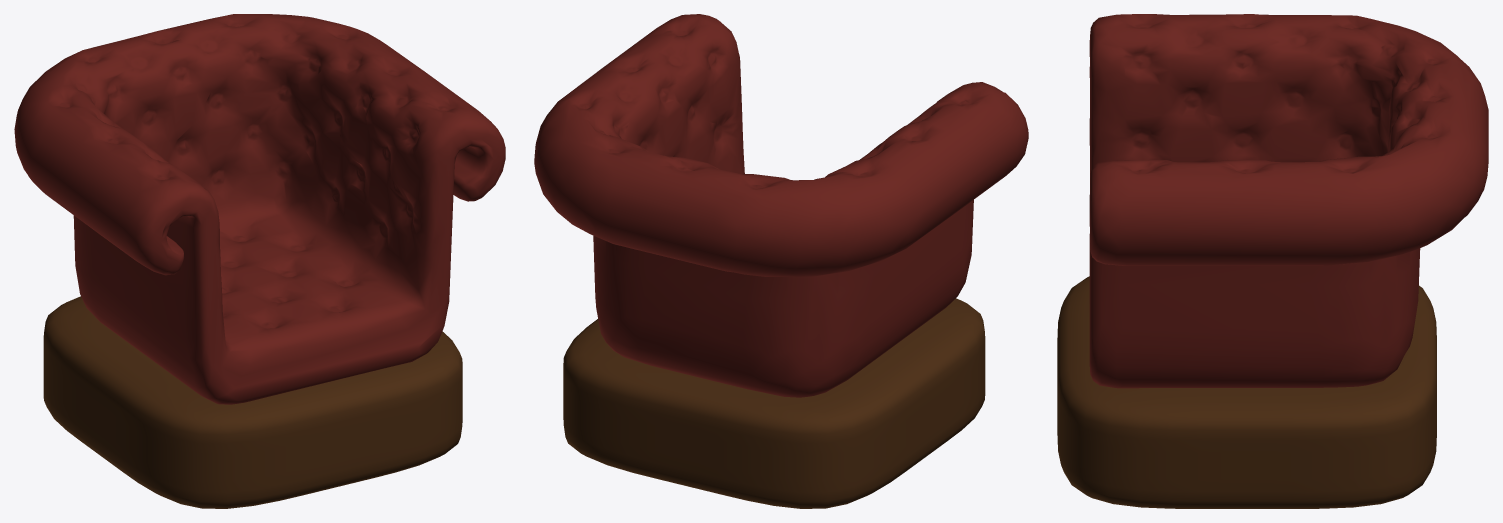
The model's file is sofa-lowpoly.fbx.
3 views of the same model, side by side, from view 1: azimuth 30°, elevation 25°; view 2: azimuth 150°, elevation 25°; view 3: azimuth 270°, elevation 25° (orthographic). The views are drawn at different scales.
Visible parts, largest first — view 1: Plane.003, Cube; view 2: Plane.003, Cube; view 3: Plane.003, Cube.
Part boxes in pixels (left/top/right/bottom): Plane.003: left=14, top=14, right=505, bottom=404; Cube: left=43, top=296, right=462, bottom=508; Plane.003: left=534, top=14, right=1028, bottom=397; Cube: left=563, top=298, right=985, bottom=508; Plane.003: left=1089, top=14, right=1488, bottom=388; Cube: left=1057, top=276, right=1436, bottom=508.
Bounding box in the file's own units: 260 × 223 × 249.
